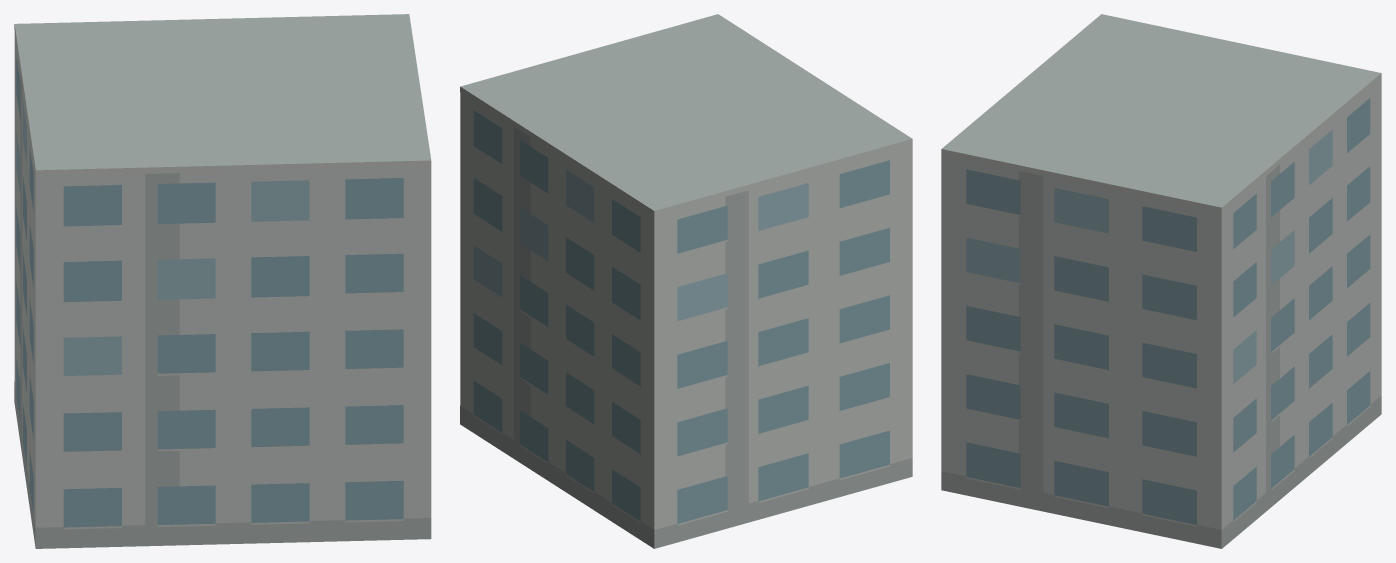
The model's file is survey-upis-32950966.glb.
The picture shows the model from 3 angles, left to right: view 1: azimuth 30°, elevation 25°; view 2: azimuth 150°, elevation 25°; view 3: azimuth 270°, elevation 25°; orthographic projection. The views are drawn at different scales.
Visible parts, largest first — view 1: survey-upis-32950966.tmp; view 2: survey-upis-32950966.tmp; view 3: survey-upis-32950966.tmp.
Boxes of the visible parts, x1,y1,x2,y2 form: survey-upis-32950966.tmp: (14, 14, 431, 548); survey-upis-32950966.tmp: (460, 14, 912, 548); survey-upis-32950966.tmp: (941, 14, 1381, 548).
Bounding box in the file's own units: 17.78 × 14.6 × 17.08.
